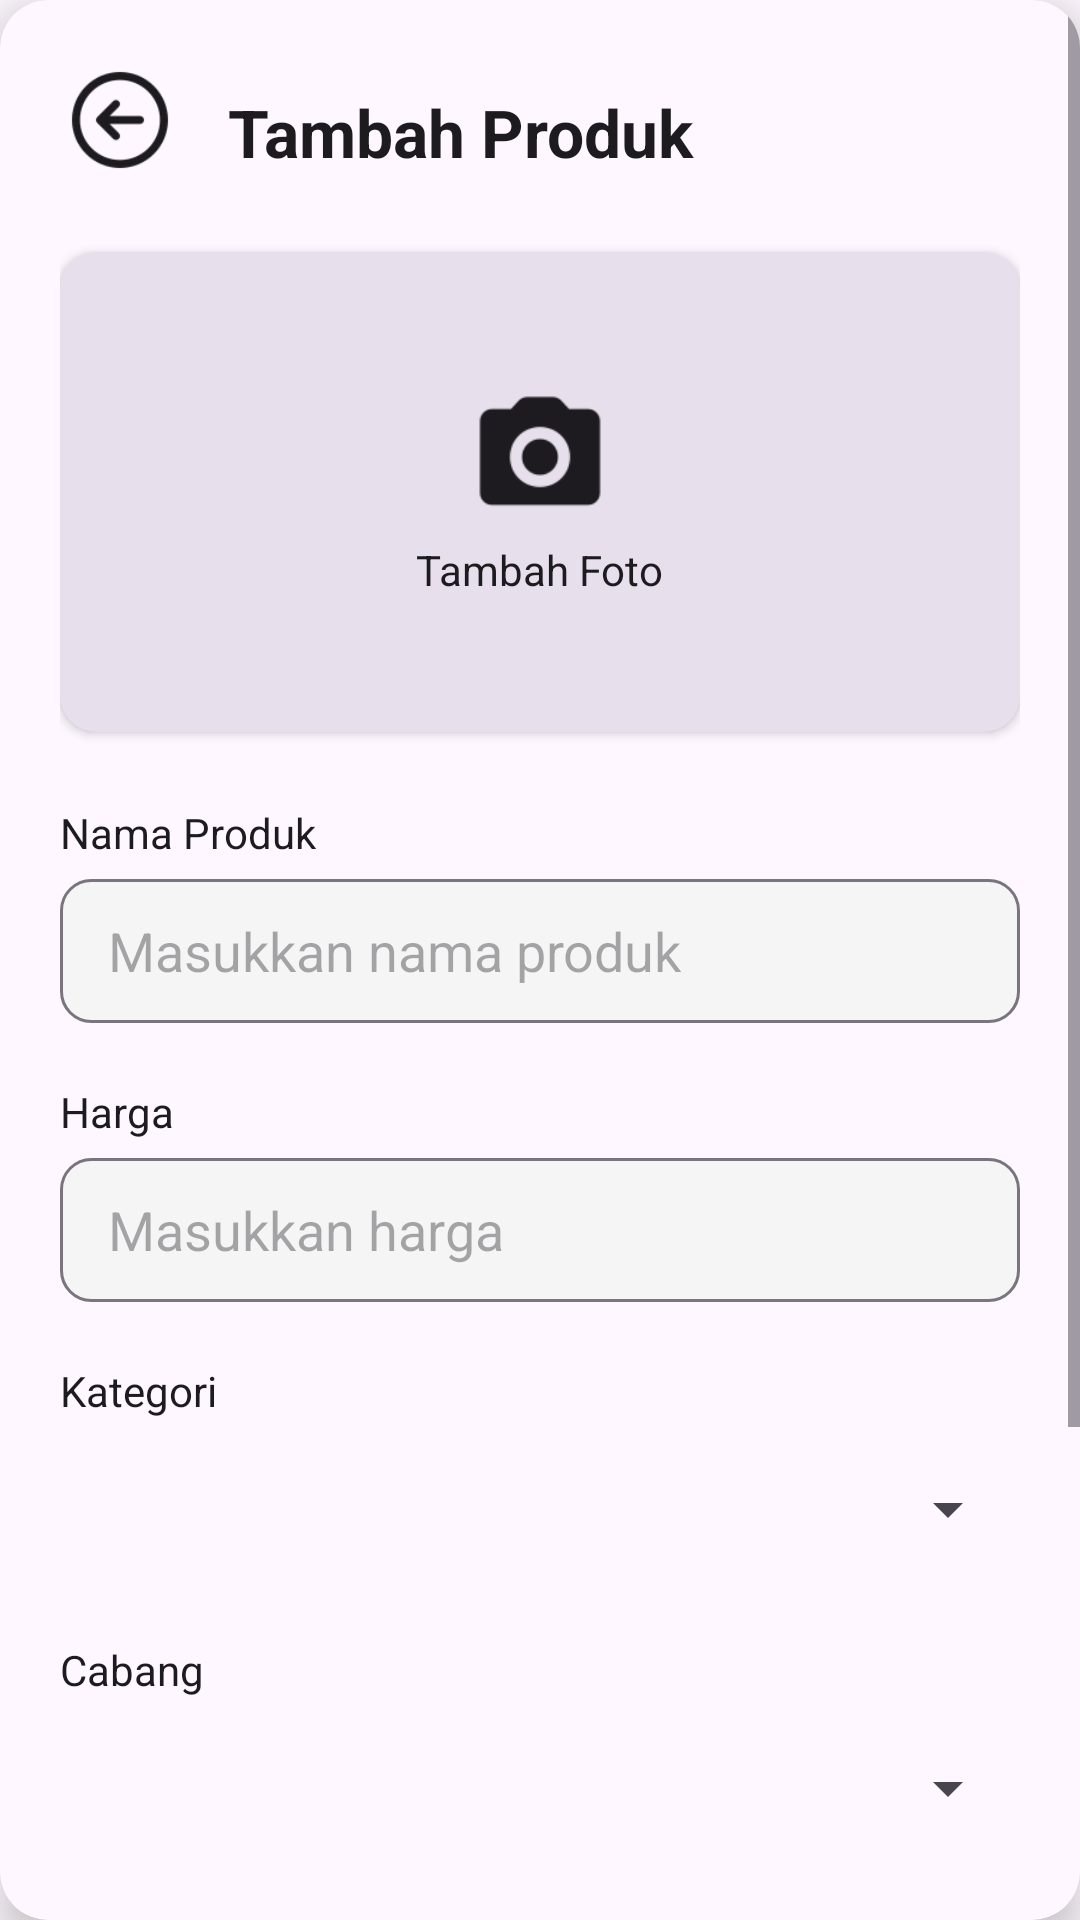

Icons on this 1080w x 1920h Android screen, each with the point to tap as [x,y]:
back: [120,120]
camera: [540,451]
